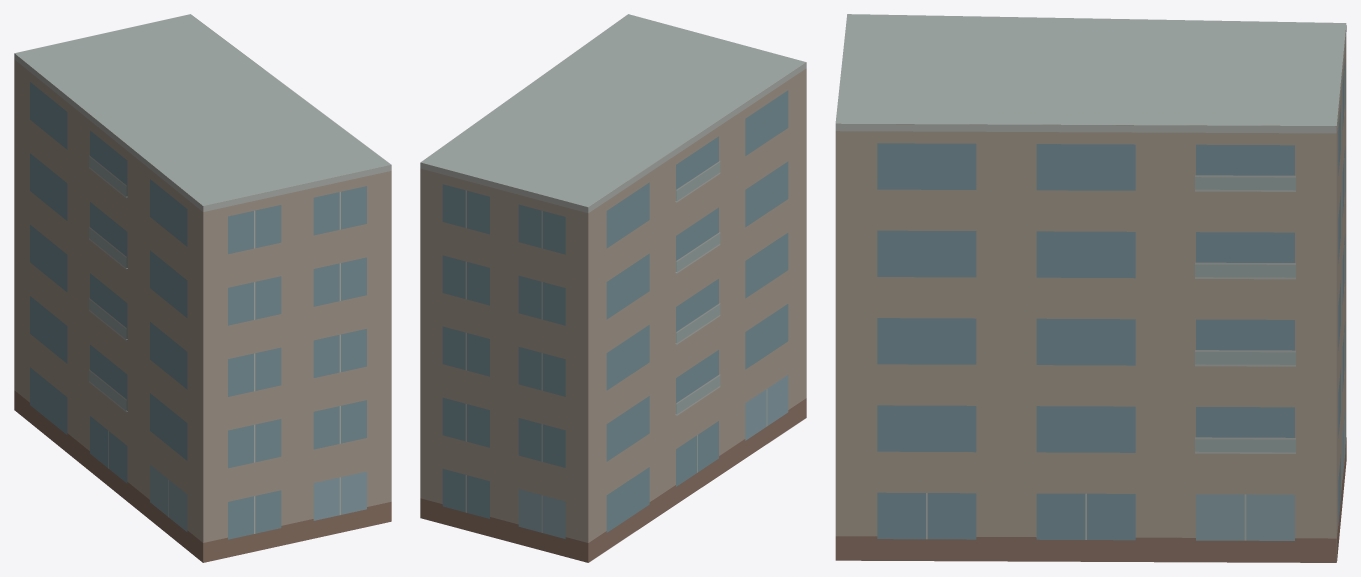
Rendered from survey-upis-32765324.glb.
3 renders of one model, left to right at view 1: azimuth 30°, elevation 25°; view 2: azimuth 150°, elevation 25°; view 3: azimuth 270°, elevation 25°, orthographic. The views are drawn at different scales.
Parts seen in each view (by area): view 1: survey-upis-32765324.tmp; view 2: survey-upis-32765324.tmp; view 3: survey-upis-32765324.tmp.
Part boxes in pixels (x1,y1,x2,y2): survey-upis-32765324.tmp: [14, 14, 391, 562]; survey-upis-32765324.tmp: [420, 14, 806, 562]; survey-upis-32765324.tmp: [835, 14, 1346, 562].
Size of the model in its own units: 7.98 by 14.45 by 15.33.
